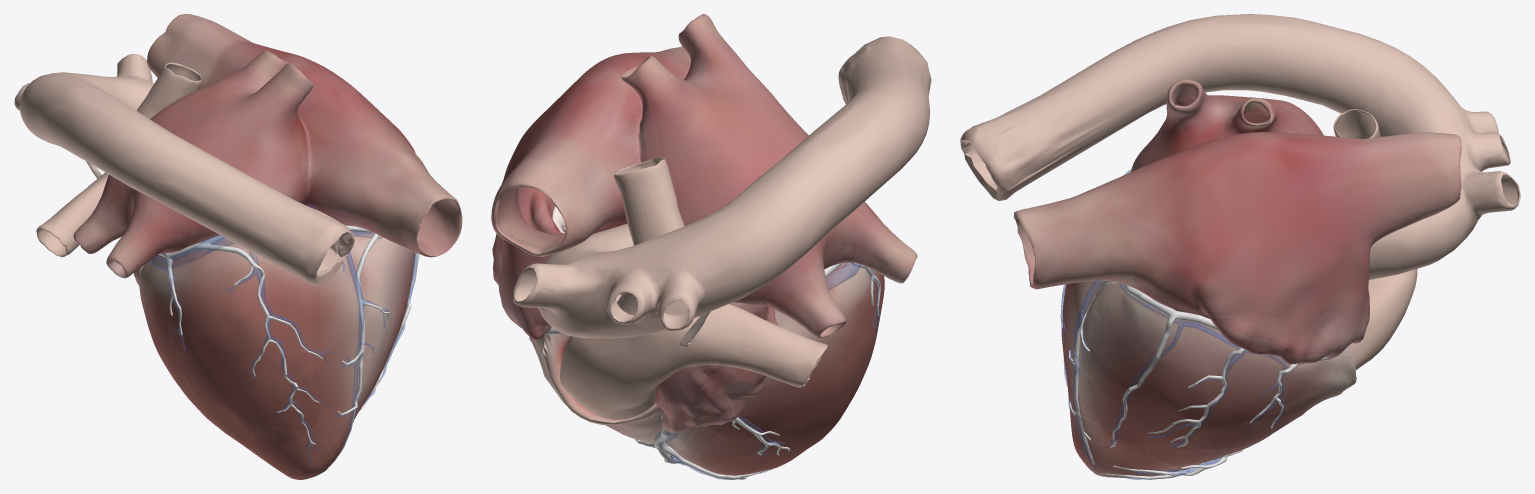
The model's file is heart_groningen_split.glb.
3 views of the same model, side by side, from view 1: azimuth 30°, elevation 25°; view 2: azimuth 150°, elevation 25°; view 3: azimuth 270°, elevation 25° (orthographic). The views are drawn at different scales.
Parts seen in each view (by area): view 1: Heart_body, Aorta, Veins, Pulmonary_trunk, LCX, RCA; view 2: Heart_body, Aorta, Pulmonary_trunk, Atrial_appendage, LAD, Veins; view 3: Heart_body, Aorta, Pulmonary_trunk, RCA, Veins, LAD.
Boxes of the visible parts, bbox=[...] form: Heart_body: bbox=[73, 14, 462, 479]; Aorta: bbox=[14, 54, 354, 284]; Veins: bbox=[150, 204, 417, 465]; Pulmonary_trunk: bbox=[36, 62, 201, 257]; LCX: bbox=[158, 235, 323, 446]; RCA: bbox=[338, 225, 419, 448]; Heart_body: bbox=[491, 14, 917, 475]; Aorta: bbox=[513, 36, 931, 338]; Pulmonary_trunk: bbox=[560, 157, 828, 419]; Atrial_appendage: bbox=[655, 302, 777, 432]; LAD: bbox=[635, 411, 790, 479]; Veins: bbox=[663, 263, 879, 479]; Heart_body: bbox=[1013, 79, 1461, 478]; Aorta: bbox=[960, 14, 1520, 280]; Pulmonary_trunk: bbox=[1333, 109, 1417, 369]; RCA: bbox=[1068, 280, 1331, 464]; Veins: bbox=[1061, 170, 1286, 479]; LAD: bbox=[1095, 449, 1243, 479].
Bounding box in the file's own units: 302 × 336 × 418.
